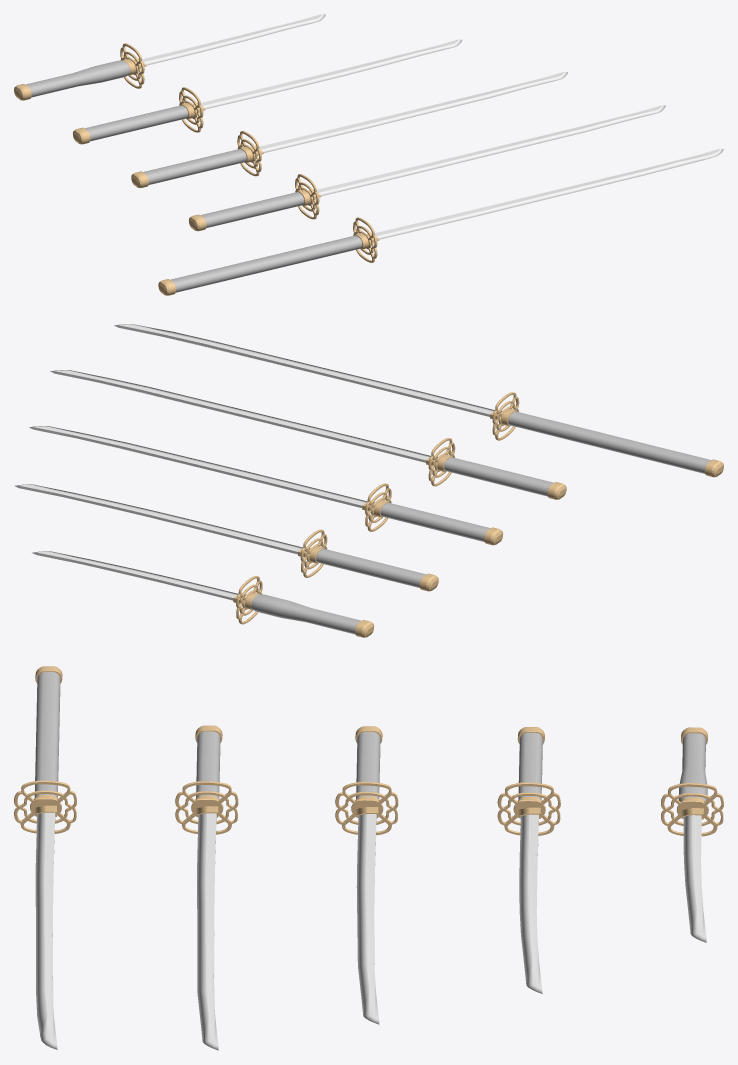
Rendered from katanas.dae.
3 views of the same model, one above another, from view 1: azimuth 30°, elevation 25°; view 2: azimuth 150°, elevation 25°; view 3: azimuth 270°, elevation 25° (orthographic). The views are drawn at different scales.
Parts seen in each view (by area): view 1: handgrip1_004, blade_004, blade_003, blade_002, blade, handgrip1_001, handgrip1, handgrip1_003, handgrip1_002, blade_001, tsuba, tsuba_002 (+3 smaller); view 2: handgrip1_004, blade_004, blade_003, blade_002, blade, handgrip1_001, handgrip1_003, handgrip1, handgrip1_002, blade_001, tsuba_003, tsuba_004 (+3 smaller); view 3: blade_004, blade_003, blade_002, blade, handgrip1_004, blade_001, tsuba, tsuba_003, tsuba_002, tsuba_004, tsuba_001, handgrip1_001 (+3 smaller).
Boxes of the visible parts, x1=… form: handgrip1_004: x1=170, y1=235, x2=362, y2=292; blade_004: x1=374, y1=149, x2=723, y2=239; blade_003: x1=316, y1=105, x2=665, y2=196; blade_002: x1=259, y1=72, x2=567, y2=153; blade: x1=200, y1=39, x2=462, y2=109; handgrip1_001: x1=26, y1=60, x2=130, y2=97; handgrip1: x1=84, y1=105, x2=188, y2=141; handgrip1_003: x1=200, y1=192, x2=304, y2=228; handgrip1_002: x1=143, y1=149, x2=246, y2=184; blade_001: x1=142, y1=14, x2=325, y2=65; tsuba: x1=179, y1=87, x2=203, y2=132; tsuba_002: x1=237, y1=131, x2=261, y2=176; handgrip1_004: x1=508, y1=411, x2=711, y2=473; blade_004: x1=114, y1=324, x2=494, y2=416; blade_003: x1=50, y1=370, x2=430, y2=462; blade_002: x1=29, y1=426, x2=367, y2=507; blade: x1=14, y1=484, x2=302, y2=554; handgrip1_001: x1=251, y1=594, x2=361, y2=634; handgrip1_003: x1=444, y1=457, x2=553, y2=496; handgrip1: x1=316, y1=548, x2=425, y2=587; handgrip1_002: x1=380, y1=502, x2=490, y2=541; blade_001: x1=32, y1=551, x2=238, y2=600; tsuba_003: x1=428, y1=438, x2=455, y2=486; tsuba_004: x1=492, y1=392, x2=519, y2=440; blade_004: x1=35, y1=812, x2=57, y2=1049; blade_003: x1=197, y1=813, x2=218, y2=1050; blade_002: x1=356, y1=814, x2=379, y2=1024; blade: x1=519, y1=814, x2=542, y2=993; handgrip1_004: x1=34, y1=672, x2=60, y2=797; blade_001: x1=683, y1=815, x2=706, y2=942; tsuba: x1=497, y1=782, x2=560, y2=835; tsuba_003: x1=175, y1=781, x2=238, y2=834; tsuba_002: x1=335, y1=781, x2=398, y2=835; tsuba_004: x1=14, y1=780, x2=76, y2=833; tsuba_001: x1=661, y1=783, x2=723, y2=836; handgrip1_001: x1=678, y1=733, x2=707, y2=801.
Size of the model in its own units: 11.01 by 8.74 by 0.7197.
